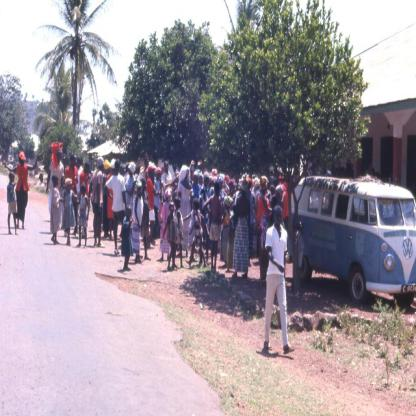face: (276, 214, 283, 224), (185, 170, 190, 180), (165, 163, 170, 172), (205, 178, 210, 186), (74, 157, 78, 166), (128, 169, 133, 176), (101, 163, 105, 171), (59, 155, 63, 163), (139, 186, 143, 194), (171, 205, 175, 213), (68, 183, 72, 190), (13, 174, 16, 183), (151, 168, 154, 176), (194, 176, 197, 184), (193, 201, 196, 209), (144, 183, 147, 190), (179, 200, 182, 207), (87, 167, 90, 173), (56, 179, 59, 185), (81, 188, 84, 194)
